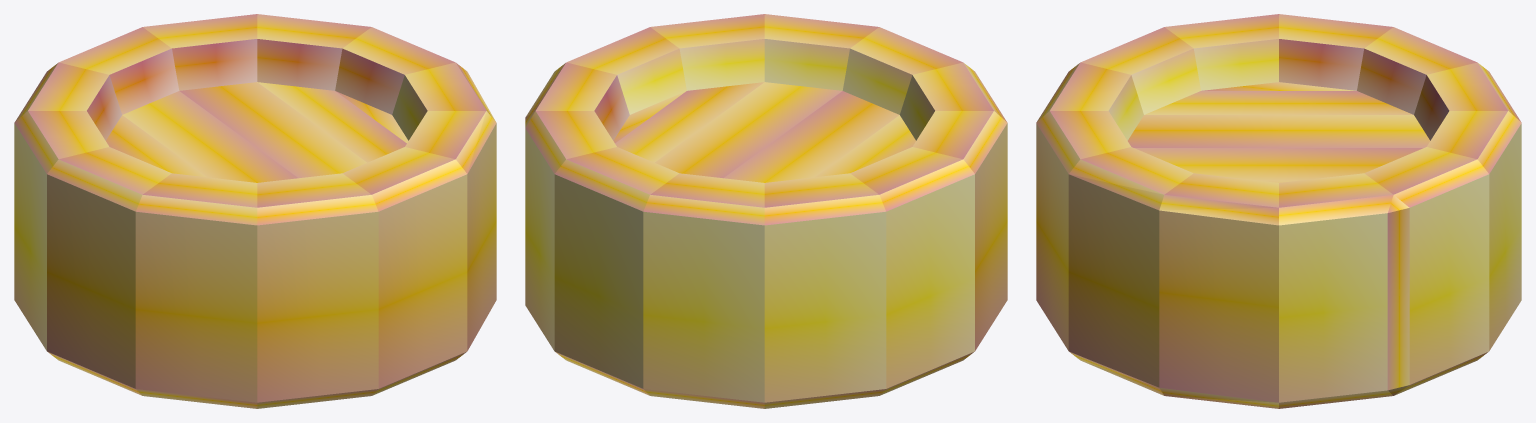
File: coin01.fbx
3 renders of one model, left to right at view 1: azimuth 30°, elevation 25°; view 2: azimuth 150°, elevation 25°; view 3: azimuth 270°, elevation 25°, orthographic.
Parts seen in each view (by area): view 1: coin01; view 2: coin01; view 3: coin01.
Part boxes in pixels (bbox=[...]): coin01: bbox=[14, 14, 496, 408]; coin01: bbox=[525, 14, 1007, 408]; coin01: bbox=[1036, 14, 1521, 408].
Size of the model in its own units: 91.24 by 41.71 by 91.24.
